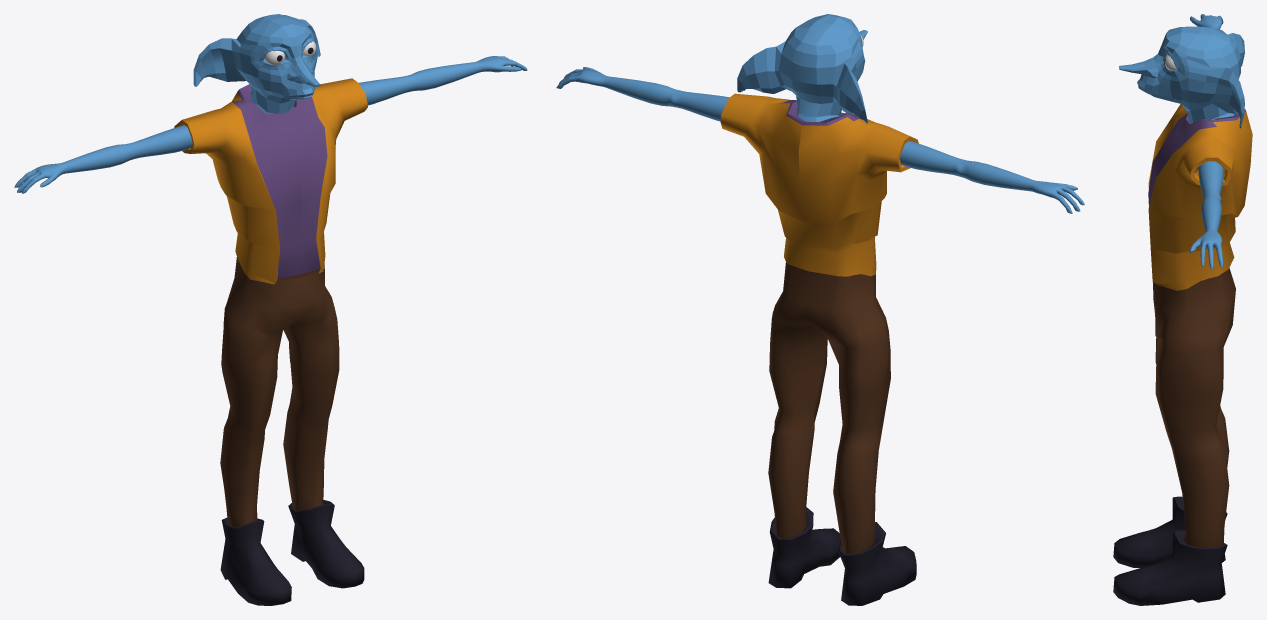
Rendered from Elf.fbx.
The picture shows the model from 3 angles, left to right: view 1: azimuth 30°, elevation 25°; view 2: azimuth 150°, elevation 25°; view 3: azimuth 270°, elevation 25°; orthographic projection. The views are drawn at different scales.
Parts seen in each view (by area): view 1: Elf_Character2; view 2: Elf_Character2; view 3: Elf_Character2.
Boxes of the visible parts, left/top/right/bottom form: Elf_Character2: left=14, top=14, right=527, bottom=605; Elf_Character2: left=556, top=14, right=1084, bottom=605; Elf_Character2: left=1113, top=14, right=1252, bottom=605.
Bounding box in the file's own units: 175 × 181 × 41.63.
